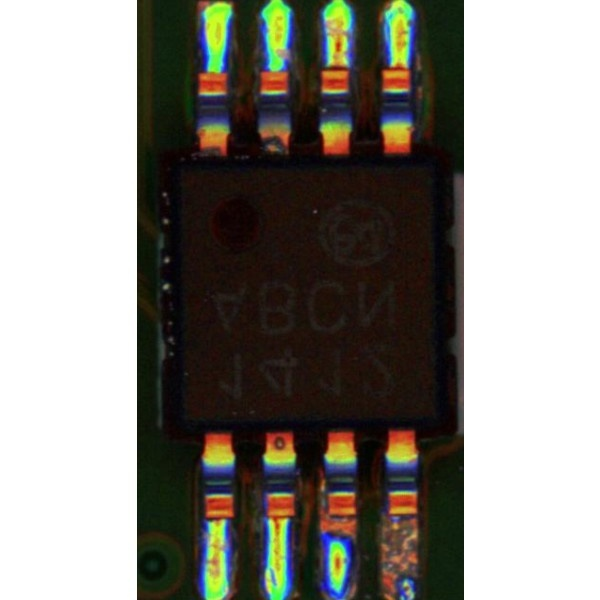Bad_podu: (270, 506, 285, 534), (326, 59, 348, 77), (208, 511, 227, 529), (389, 61, 408, 79)
